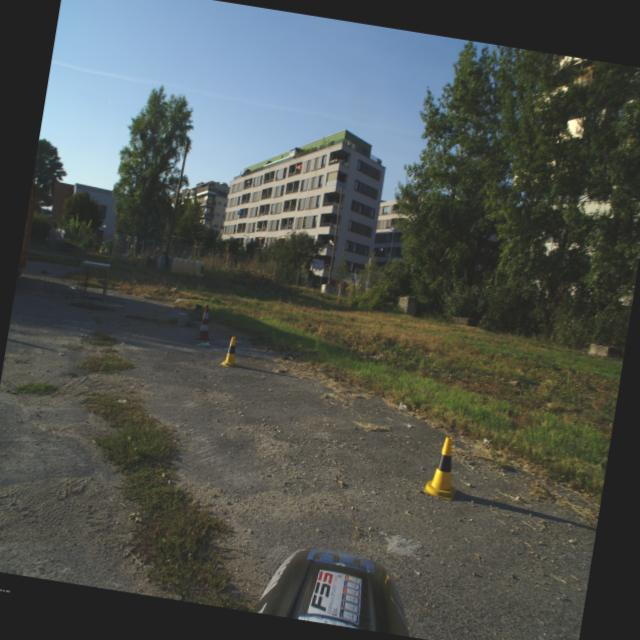large_orange_cone: (194, 304, 218, 342)
yellow_cone: (422, 434, 464, 500), (220, 336, 243, 368)
